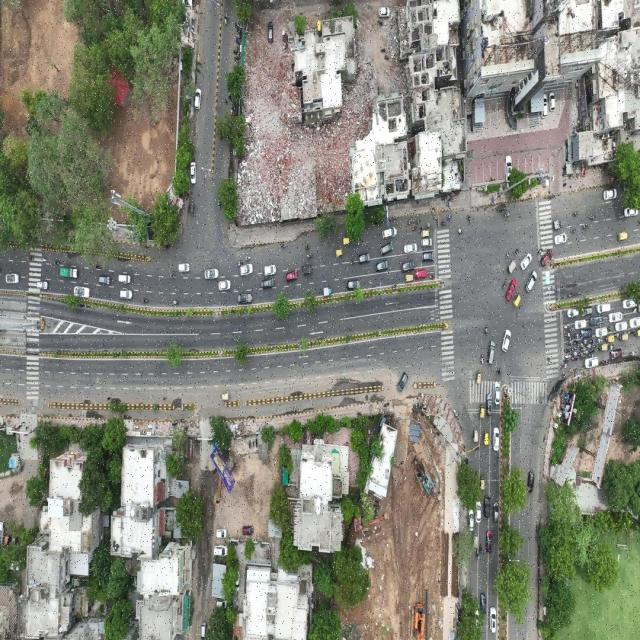3W: (301, 263, 314, 278), (219, 390, 231, 402), (322, 285, 334, 297), (508, 260, 517, 275), (190, 200, 197, 218), (512, 294, 521, 308), (335, 248, 345, 260), (342, 235, 352, 247), (617, 232, 629, 242), (472, 428, 479, 444), (483, 430, 489, 448), (479, 404, 485, 420), (475, 370, 481, 385), (496, 203, 506, 212), (480, 475, 485, 492), (420, 229, 430, 237), (406, 274, 414, 282)
Cars: (396, 371, 409, 396), (525, 271, 538, 294), (380, 225, 399, 240), (193, 86, 203, 114), (602, 188, 620, 203), (73, 285, 92, 299), (489, 604, 497, 636), (502, 329, 512, 354), (541, 249, 554, 268), (188, 161, 198, 185), (379, 241, 395, 256), (478, 592, 488, 616), (520, 252, 532, 271), (4, 272, 20, 286), (118, 288, 134, 302), (376, 260, 390, 276), (487, 341, 496, 365), (204, 267, 220, 280), (346, 279, 362, 292), (475, 500, 483, 525), (218, 280, 232, 294), (263, 263, 277, 277), (285, 270, 299, 284), (553, 232, 567, 246), (403, 242, 418, 255), (98, 275, 112, 288), (401, 259, 414, 273), (238, 292, 253, 304), (493, 427, 500, 452), (240, 264, 254, 276), (422, 251, 436, 263), (486, 530, 493, 554), (624, 207, 639, 218), (467, 509, 474, 532), (492, 500, 499, 523), (36, 280, 49, 292), (358, 252, 371, 264), (262, 279, 276, 290), (486, 394, 493, 416), (494, 381, 500, 406), (178, 263, 192, 273), (420, 238, 433, 248), (415, 270, 427, 280)
LCV: (117, 272, 133, 286), (60, 267, 78, 279), (484, 496, 491, 519), (551, 218, 564, 230)
M2W: (40, 255, 49, 266), (216, 196, 222, 212), (26, 254, 35, 263), (141, 296, 150, 305), (456, 225, 464, 235), (500, 280, 507, 291), (172, 298, 180, 307), (303, 243, 312, 251), (483, 324, 489, 336), (224, 10, 228, 27), (467, 214, 473, 225), (496, 368, 502, 378), (95, 262, 102, 270), (169, 273, 177, 280), (280, 242, 287, 250), (514, 248, 520, 257), (306, 253, 313, 260), (428, 273, 435, 280), (572, 211, 579, 218), (244, 255, 252, 261), (350, 259, 356, 267), (391, 281, 397, 289), (407, 218, 413, 226), (447, 213, 453, 221), (479, 543, 483, 555), (480, 354, 484, 366), (590, 213, 596, 221), (54, 260, 61, 266), (425, 222, 432, 228), (582, 224, 588, 231), (505, 251, 510, 259), (416, 218, 422, 224), (570, 228, 576, 234), (441, 220, 446, 227), (474, 550, 478, 558), (412, 226, 417, 232), (504, 213, 510, 218)
